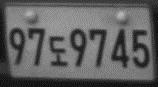4: (109, 28, 130, 68)
5: (131, 28, 150, 67)
7: (88, 28, 107, 68), (27, 26, 45, 66)
9: (69, 27, 87, 67), (8, 27, 25, 65)
도: (48, 35, 69, 66)
